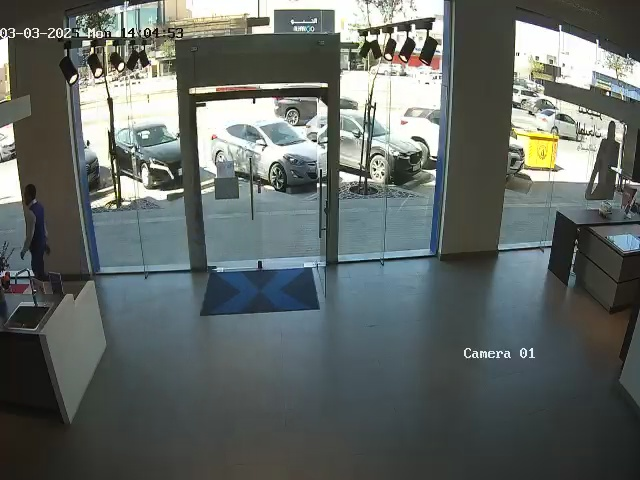employee: (20, 184, 50, 279)
